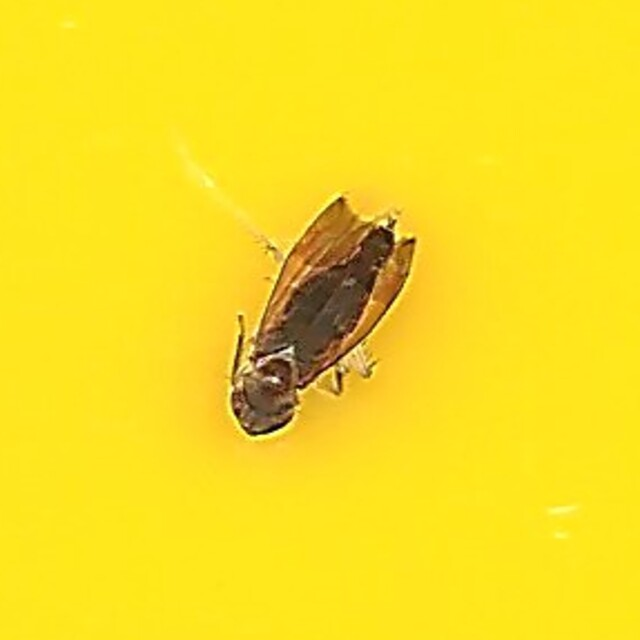Hemiptera: (223, 199, 417, 441)
